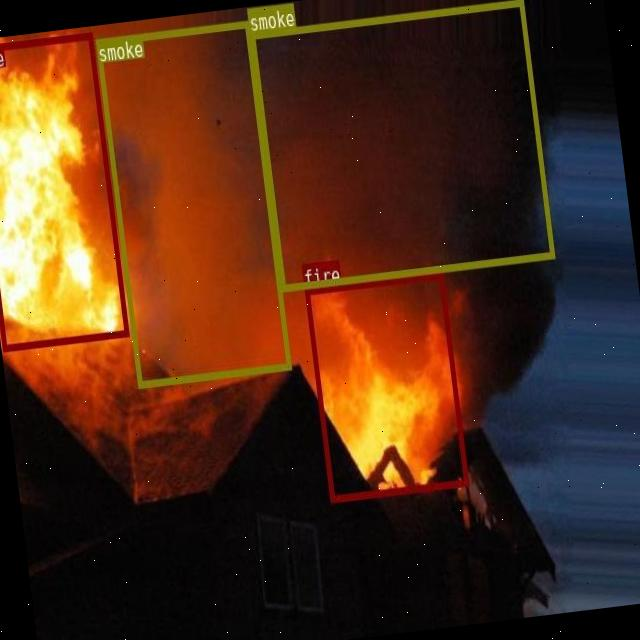fire: (0, 32, 128, 350), (304, 271, 467, 501)
smoke: (249, 0, 554, 289), (94, 19, 290, 386)
